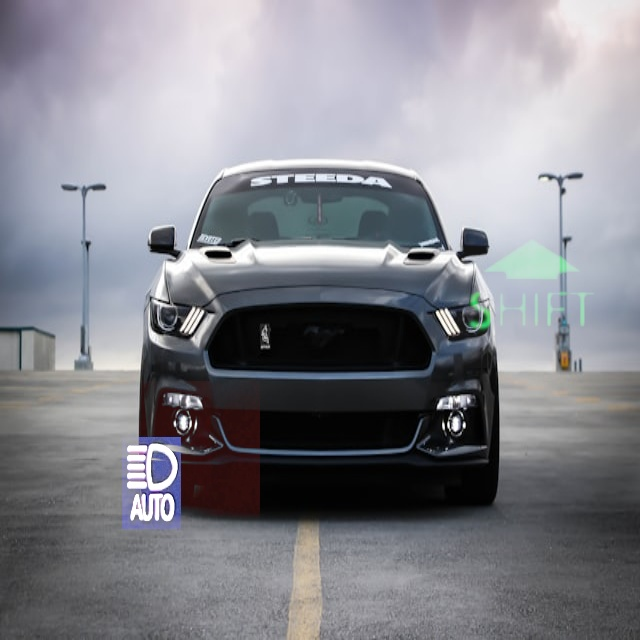symbol: (43, 381, 260, 598), (449, 201, 616, 368)
